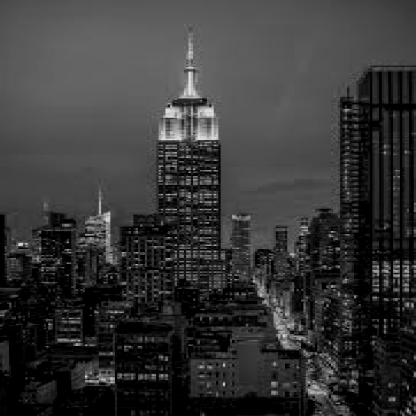Empire-State-building: (148, 20, 230, 269)
